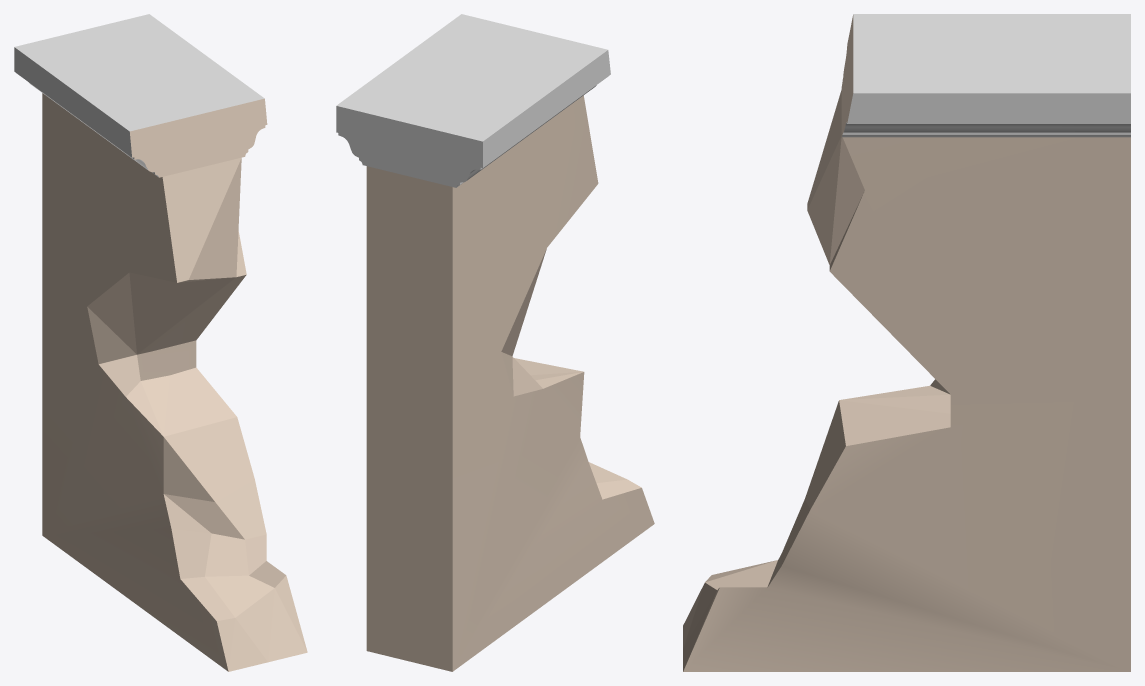
The model's file is mytest.fbx.
3 views of the same model, side by side, from view 1: azimuth 30°, elevation 25°; view 2: azimuth 150°, elevation 25°; view 3: azimuth 270°, elevation 25° (orthographic). The views are drawn at different scales.
Visible parts, largest first — view 1: Cube.001; view 2: Cube.001; view 3: Cube.001.
Part boxes in pixels (x1=…): Cube.001: x1=14, y1=14, x2=307, y2=671; Cube.001: x1=336, y1=14, x2=654, y2=671; Cube.001: x1=683, y1=14, x2=1130, y2=671.
Size of the model in its own units: 98.57 by 345 by 235.
